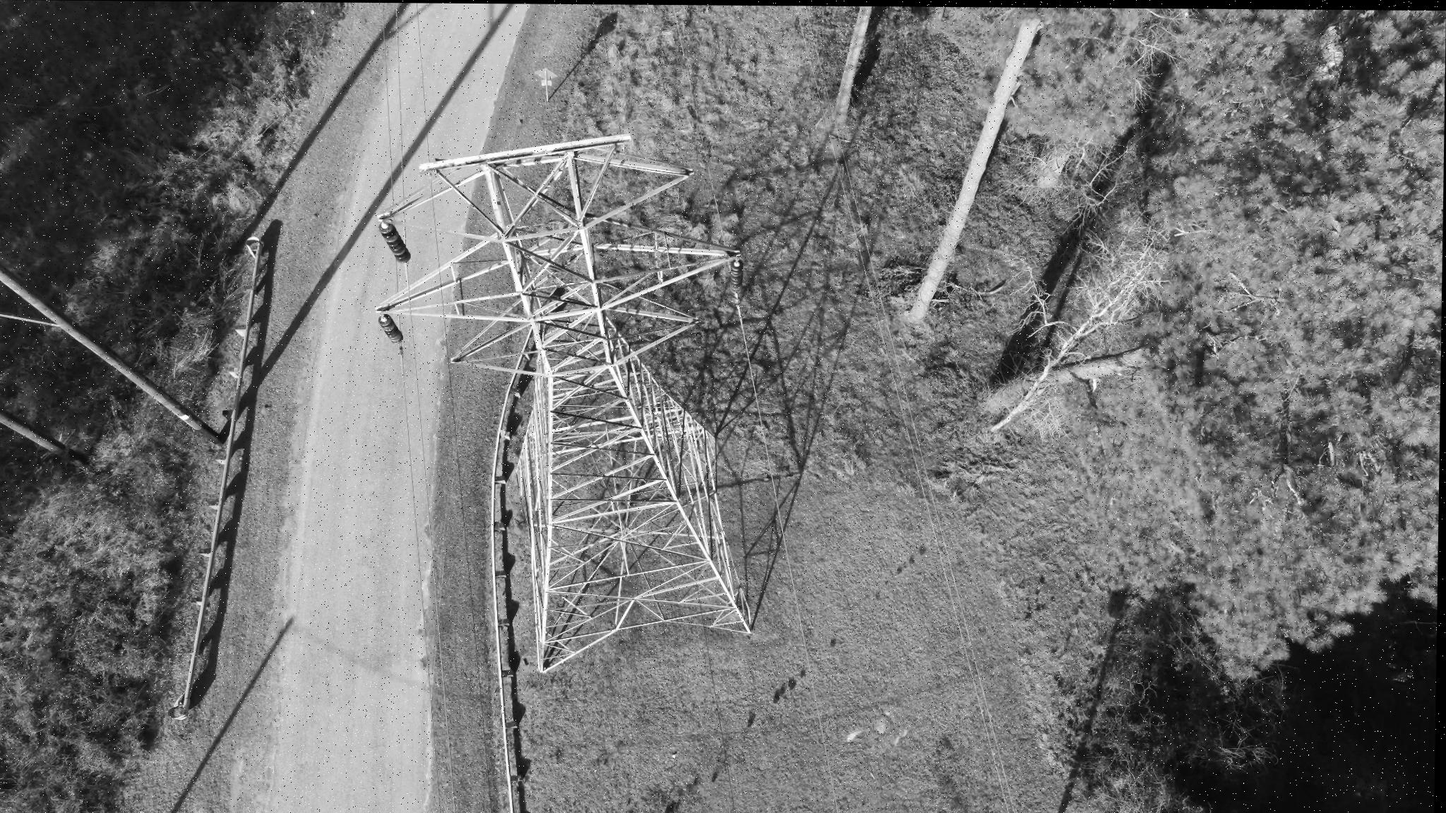tower: (367, 129, 767, 676)
